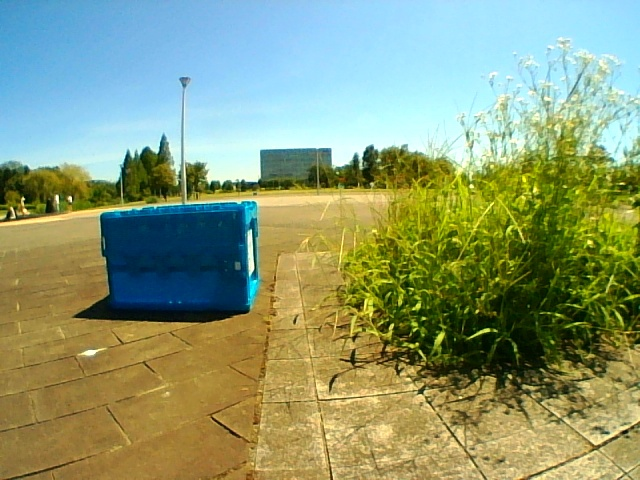blue_box: (110, 211, 257, 304)
tag: (247, 232, 256, 274)
